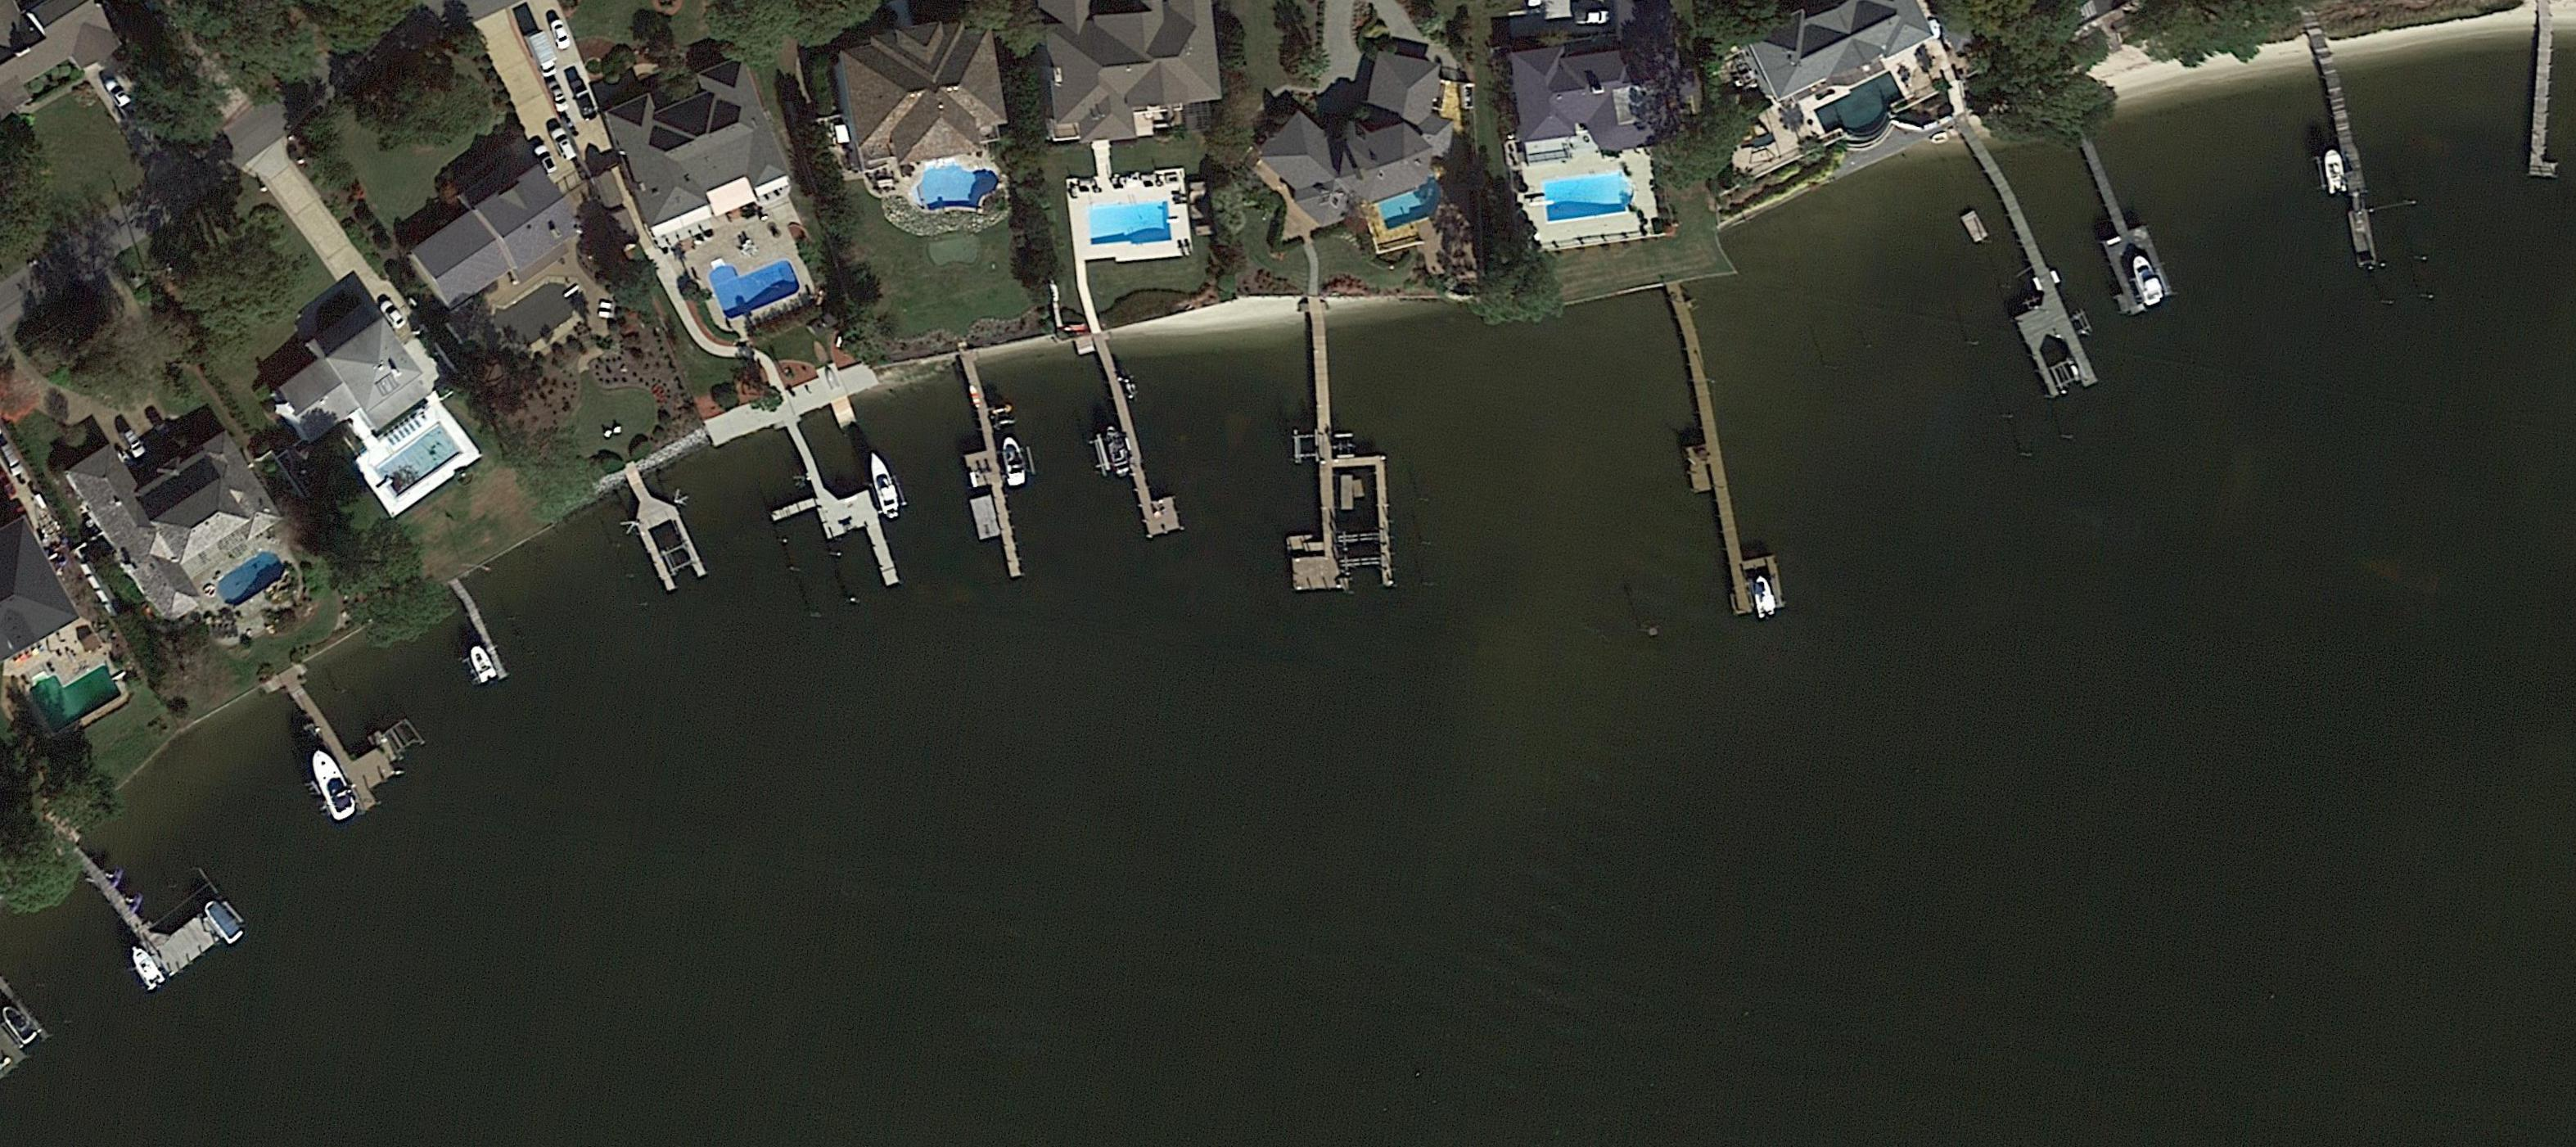harbor: (1681, 322, 1787, 621), (1281, 345, 1396, 595), (84, 813, 250, 986), (1978, 217, 2103, 408), (2070, 150, 2180, 320), (292, 670, 416, 820), (940, 378, 1025, 583), (800, 444, 902, 603), (1104, 363, 1186, 541), (623, 478, 713, 597), (2326, 102, 2382, 269), (2528, 48, 2568, 179), (472, 615, 511, 682)
ship: (301, 744, 361, 825), (866, 449, 905, 523), (199, 892, 248, 947), (123, 938, 169, 994), (2124, 253, 2167, 307), (0, 999, 39, 1048), (1099, 422, 1134, 478), (997, 434, 1032, 490), (465, 643, 499, 687), (2321, 146, 2349, 197), (1750, 573, 1778, 621), (821, 365, 841, 391), (1927, 130, 1950, 146)
